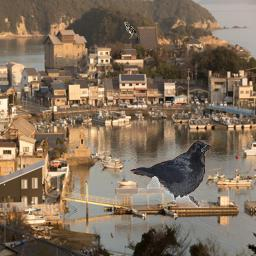Crow: (131, 140, 212, 208)
Sparrow: (124, 21, 141, 39)
